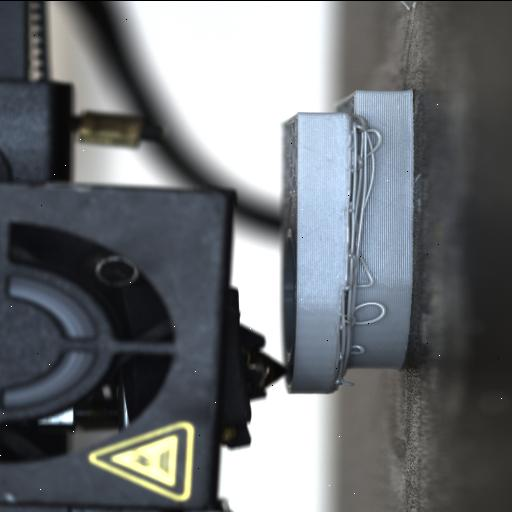layer_shift: (334, 88, 362, 393)
